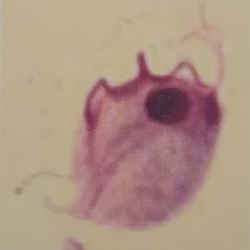Parasite: (33, 39, 228, 236)
